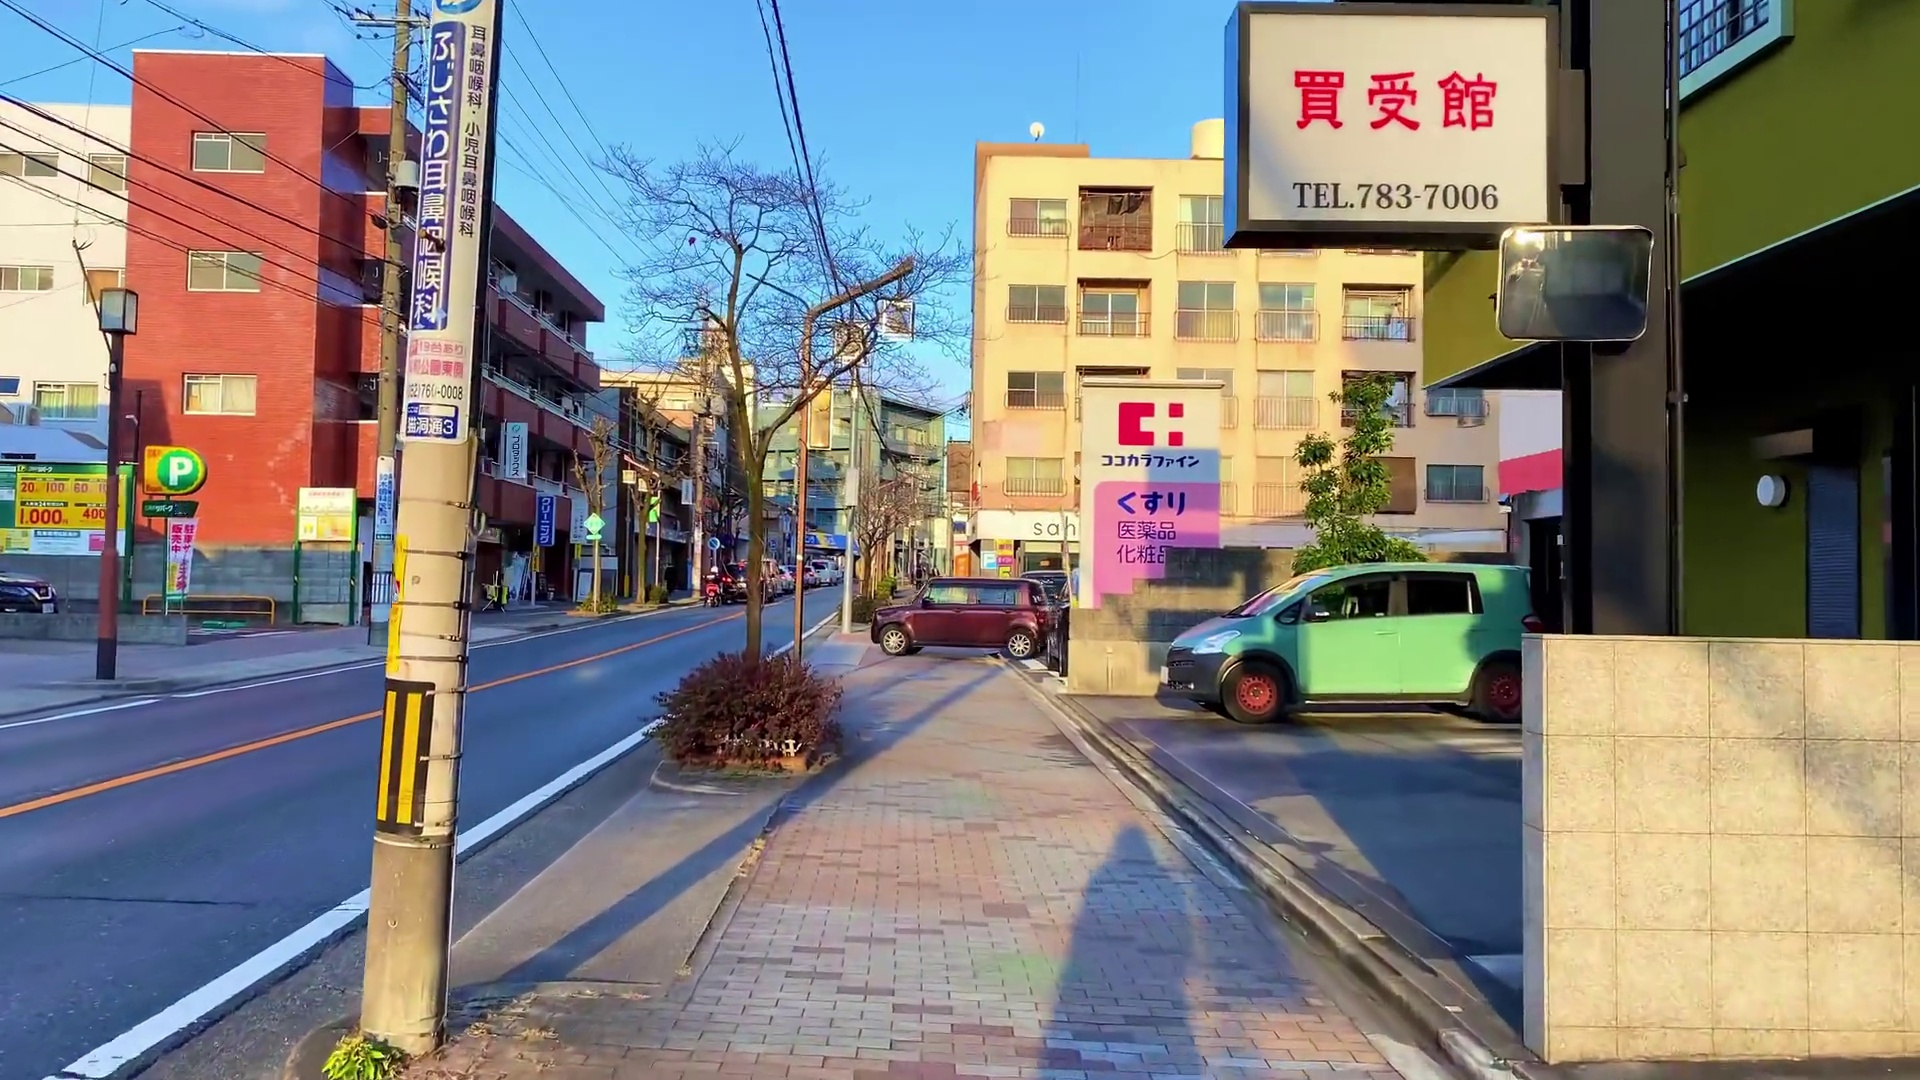car: (1151, 563, 1527, 713), (870, 582, 1052, 665)
